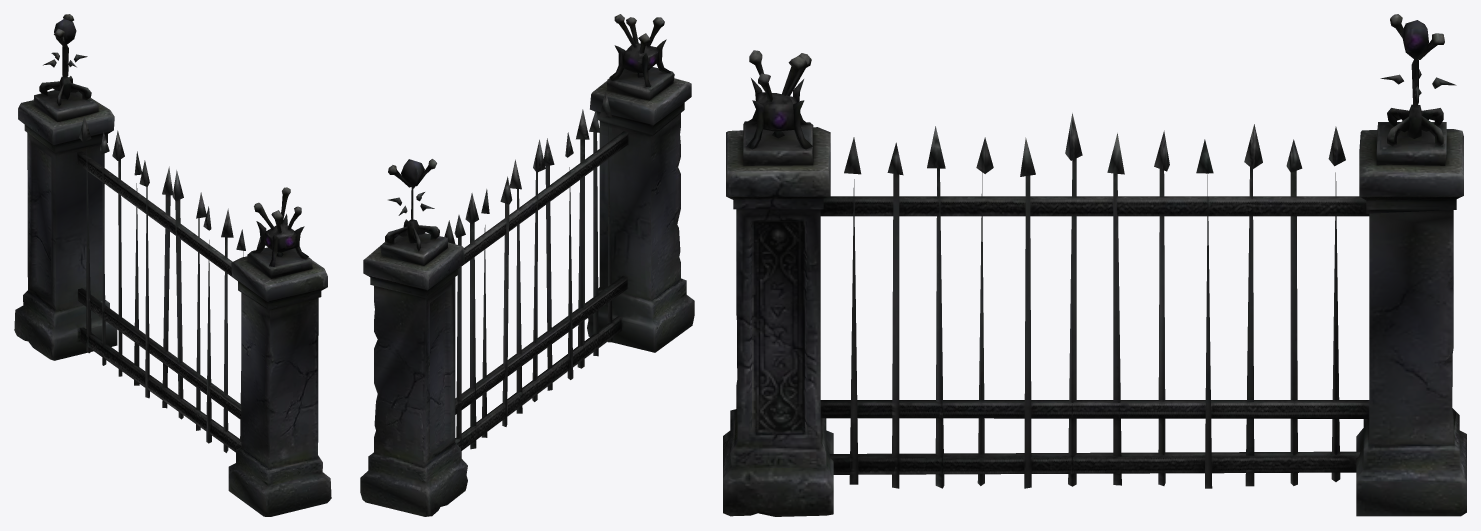
File: fence.glb
3 views of the same model, side by side, from view 1: azimuth 30°, elevation 25°; view 2: azimuth 150°, elevation 25°; view 3: azimuth 270°, elevation 25° (orthographic). The views are drawn at different scales.
Parts seen in each view (by area): view 1: tripo_node_411c0ef2-d733-4fbe-bcb3-09c8bf00bf7a; view 2: tripo_node_411c0ef2-d733-4fbe-bcb3-09c8bf00bf7a; view 3: tripo_node_411c0ef2-d733-4fbe-bcb3-09c8bf00bf7a.
Boxes of the visible parts, left/top/right/bottom form: tripo_node_411c0ef2-d733-4fbe-bcb3-09c8bf00bf7a: left=14, top=14, right=331, bottom=516; tripo_node_411c0ef2-d733-4fbe-bcb3-09c8bf00bf7a: left=360, top=14, right=694, bottom=516; tripo_node_411c0ef2-d733-4fbe-bcb3-09c8bf00bf7a: left=723, top=14, right=1466, bottom=516.
Bounding box in the file's own units: 0.1503 × 0.7012 × 0.998.
Materials: 1 (1 with a texture image).
